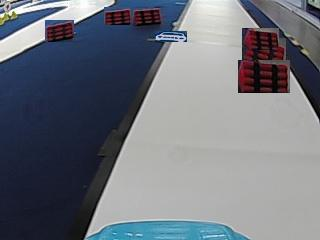bomb: (133, 7, 161, 24)
